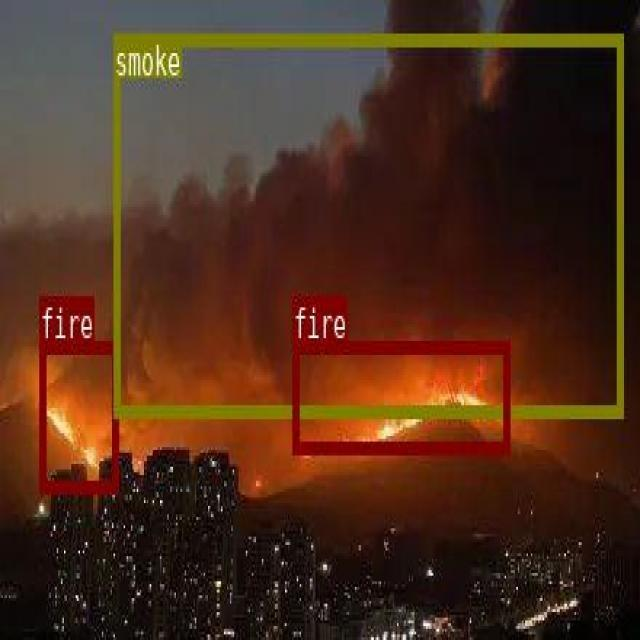fire: (292, 340, 509, 451), (38, 339, 118, 489)
smoke: (113, 33, 621, 415)
